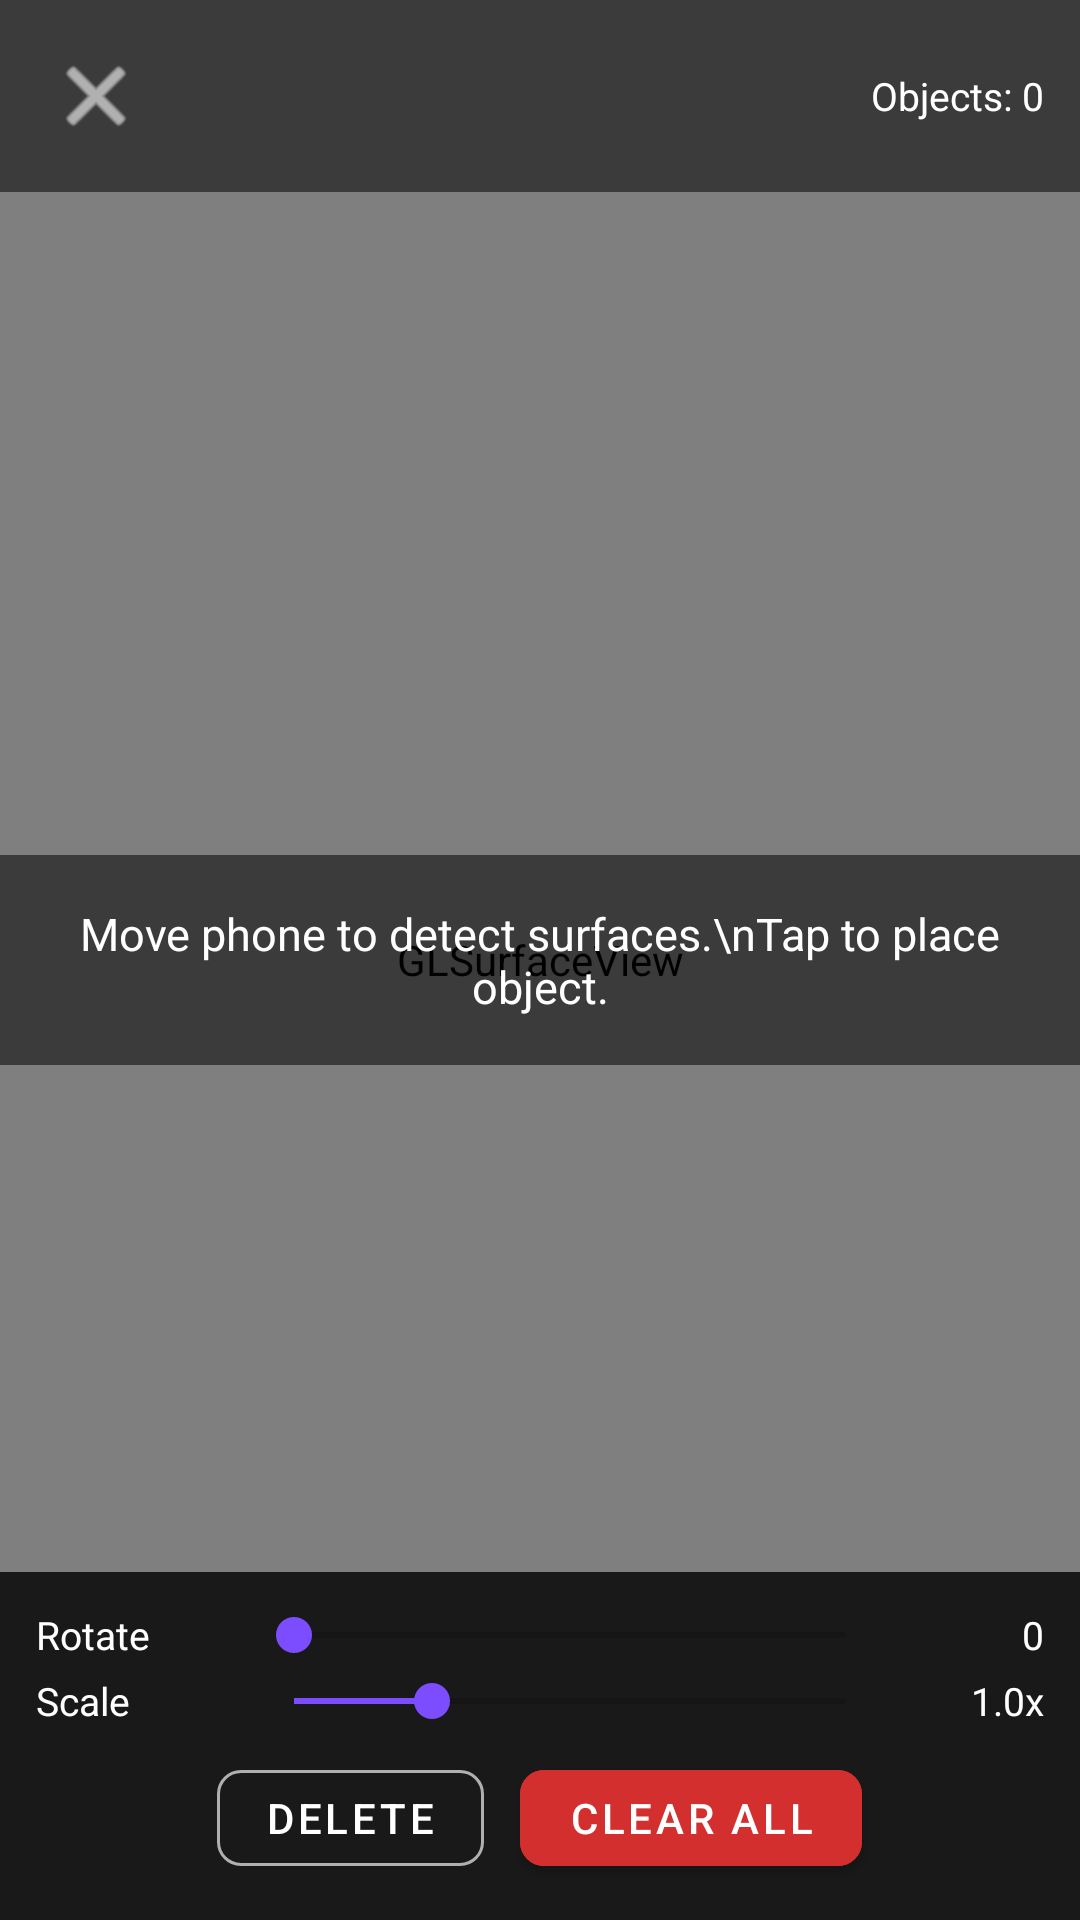

Where icons sit on this 1080px x 1920px app screen, as {"x1": x1, "y1": y1, "x2": x2, "y2": y2}:
Back: {"x1": 66, "y1": 66, "x2": 126, "y2": 126}
